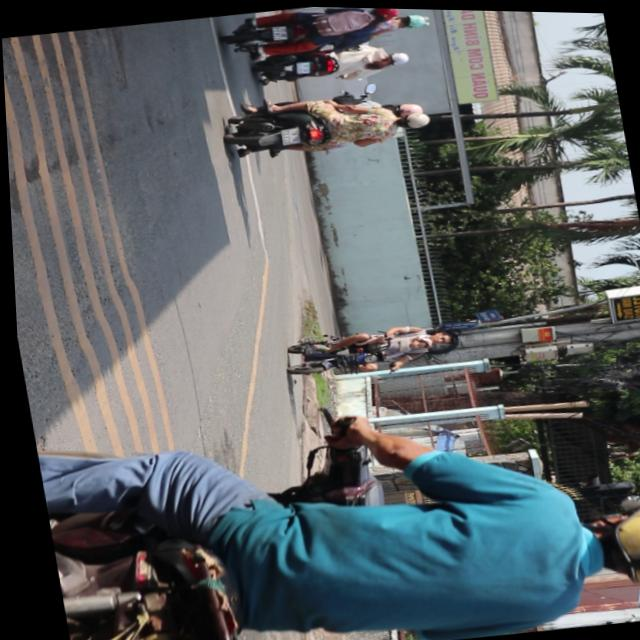helmet: (571, 495, 640, 593), (384, 96, 424, 116), (395, 107, 430, 128)
licenseplate: (27, 362, 640, 640), (217, 78, 436, 167), (278, 312, 469, 383)
nohelmet: (279, 125, 300, 144)
